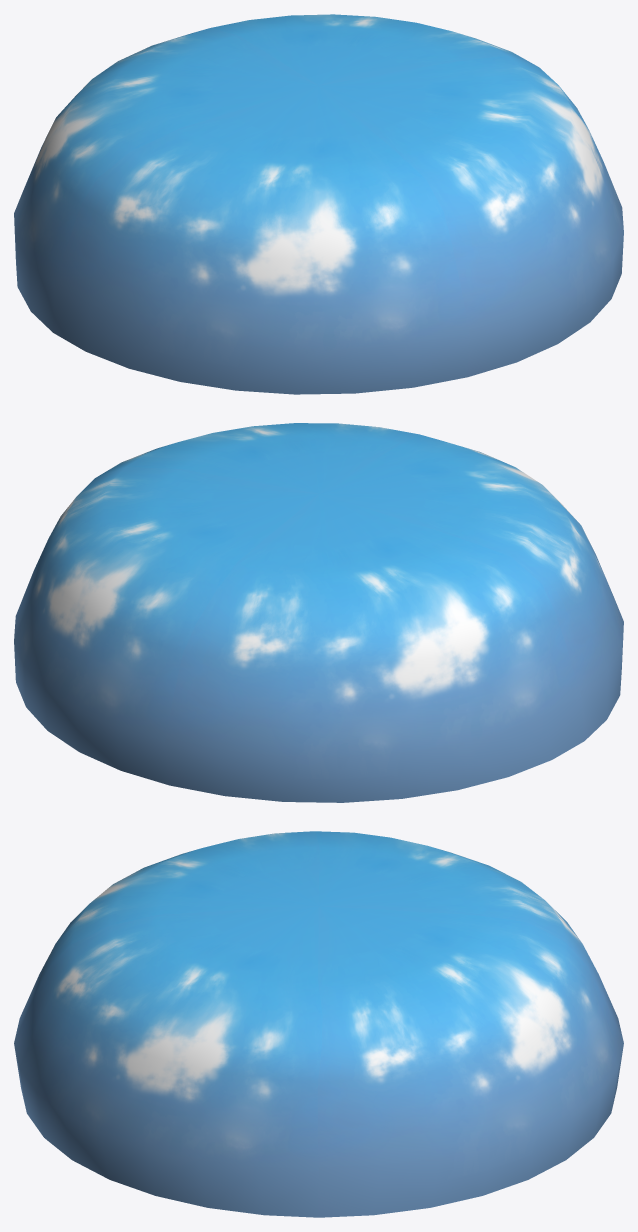
File: SQU_Ground_sky.fbx
The picture shows the model from 3 angles, top to bottom: view 1: azimuth 30°, elevation 25°; view 2: azimuth 150°, elevation 25°; view 3: azimuth 270°, elevation 25°; orthographic projection.
Visible parts, largest first — view 1: SQU_Ground_sky; view 2: SQU_Ground_sky; view 3: SQU_Ground_sky.
Boxes of the visible parts, x1=… form: SQU_Ground_sky: x1=14, y1=14, x2=623, y2=394; SQU_Ground_sky: x1=14, y1=423, x2=623, y2=802; SQU_Ground_sky: x1=14, y1=831, x2=623, y2=1217.
Size of the model in its own units: 16228 by 5319 by 16150.
